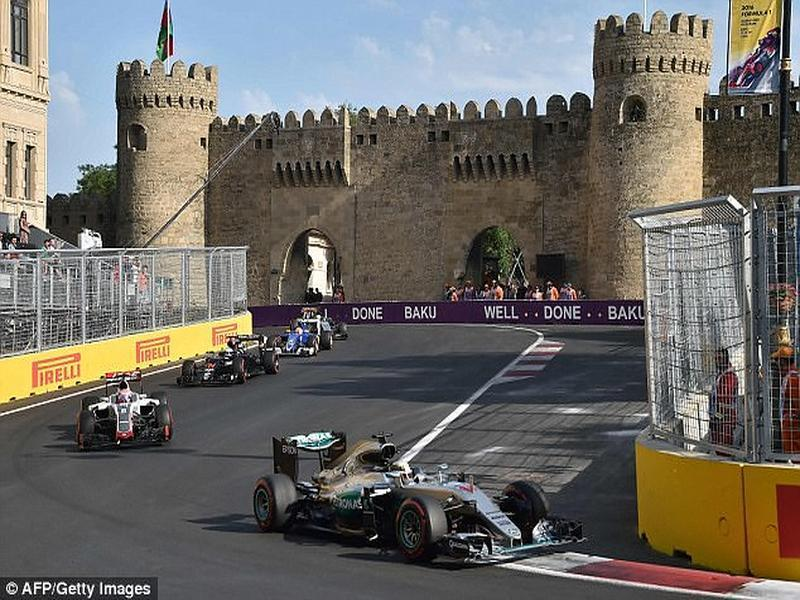f1: (255, 423, 603, 575), (179, 316, 295, 404), (73, 367, 181, 449), (273, 291, 334, 372)
